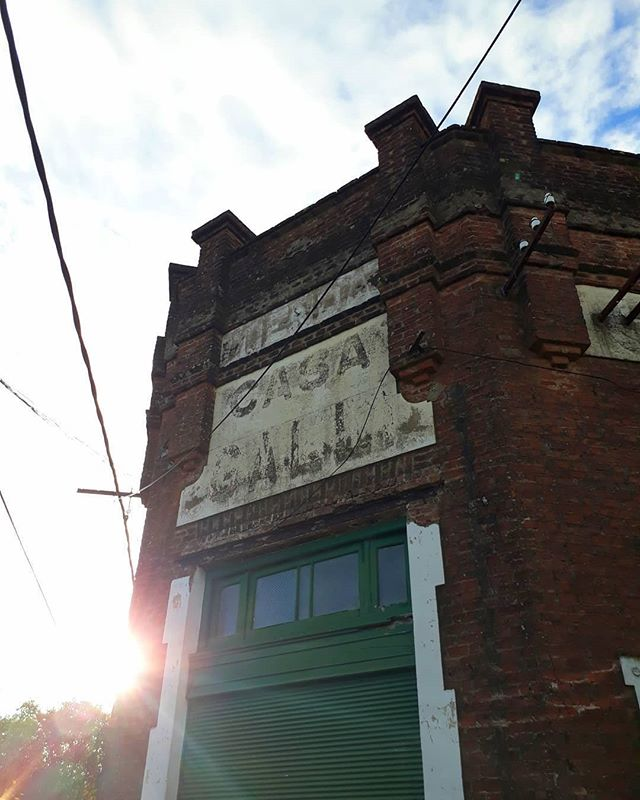building: (123, 136, 640, 800)
sky: (27, 1, 640, 189), (1, 1, 149, 641)
